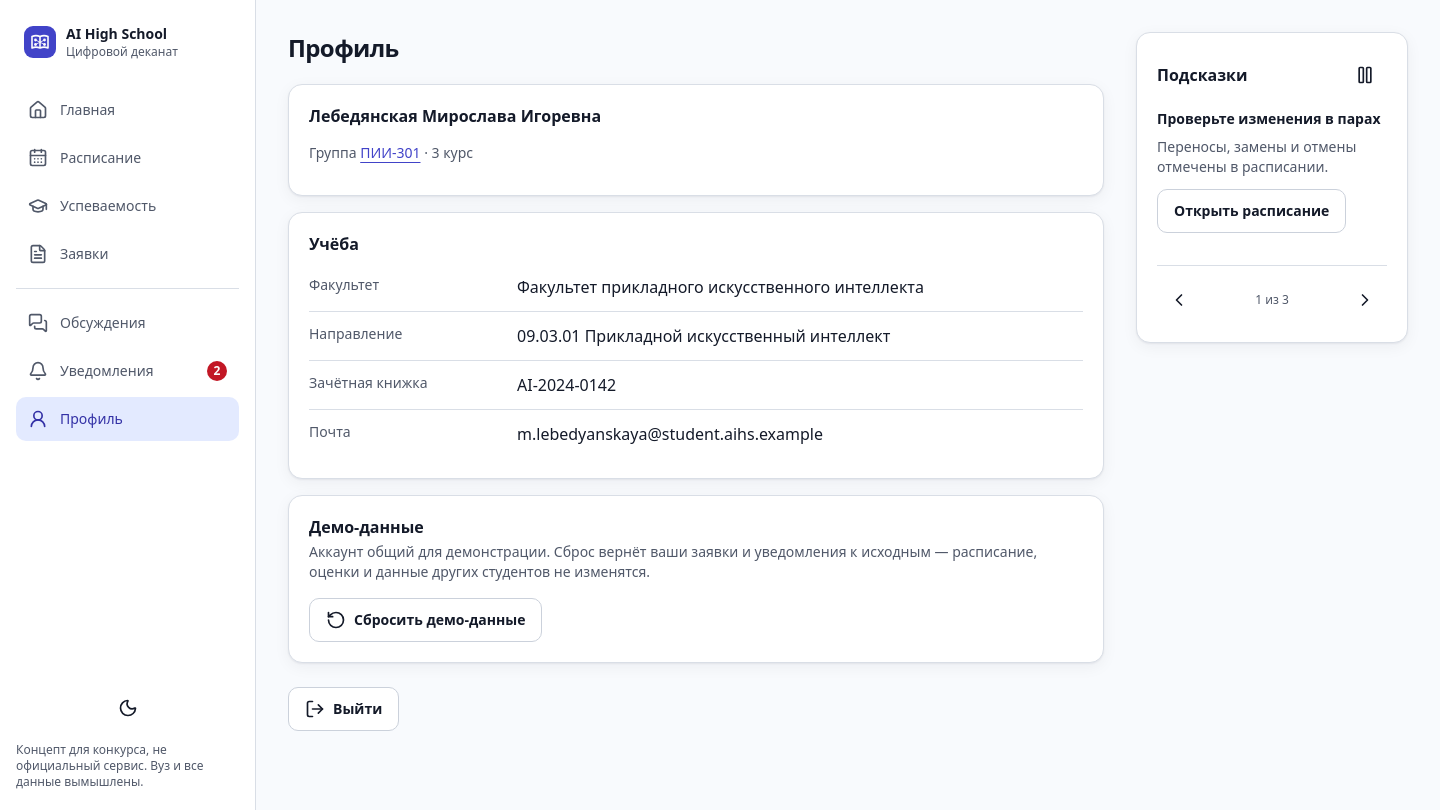
Scenario: профиль и выход › сброс демо-данных: подтверждение, затем «Готово»; созданная заявка исчезает
Click the button "Сбросить демо-данные". click: (426, 620)
box: [309,598,542,642]
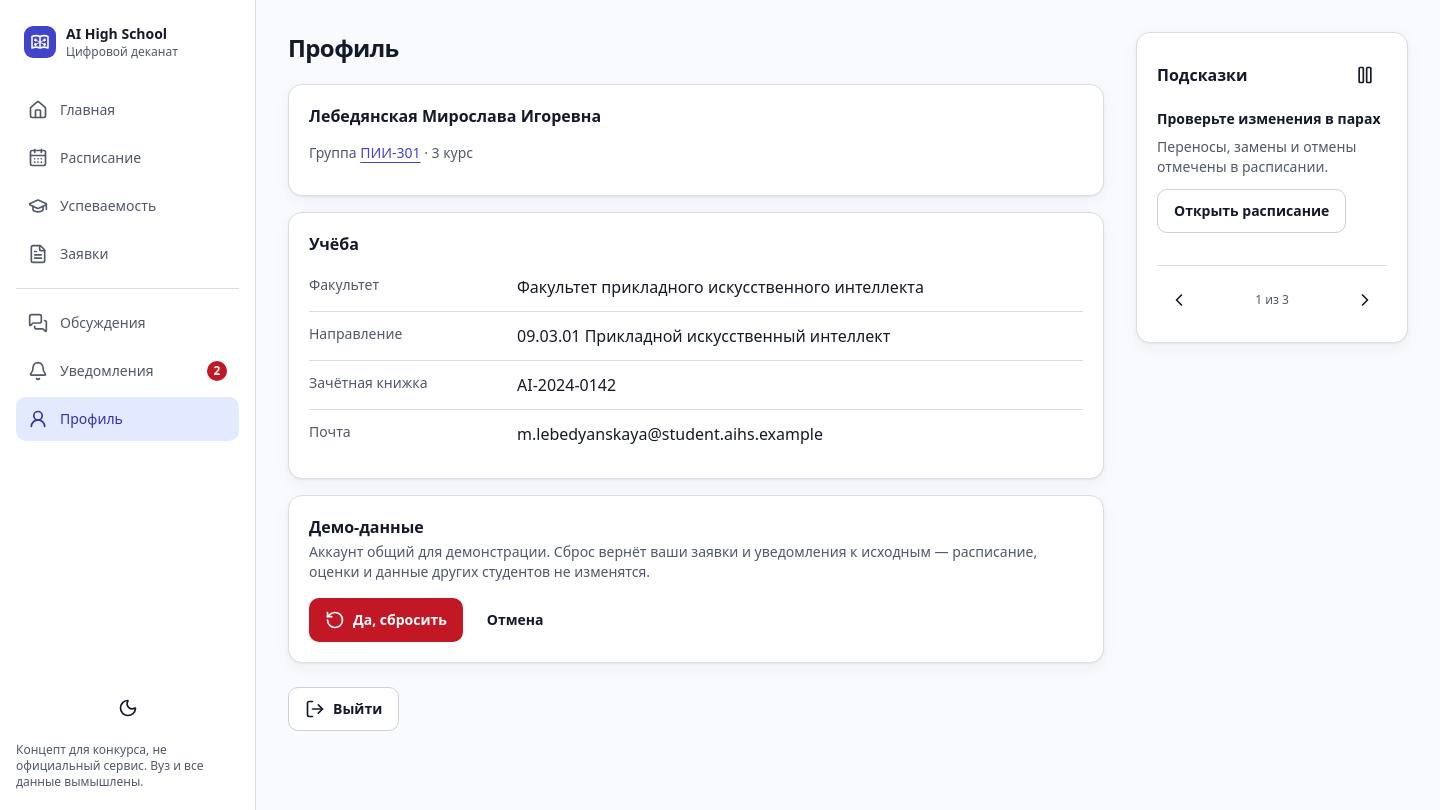
Click the button "Да, сбросить". click: (386, 620)
box: [309,598,463,642]
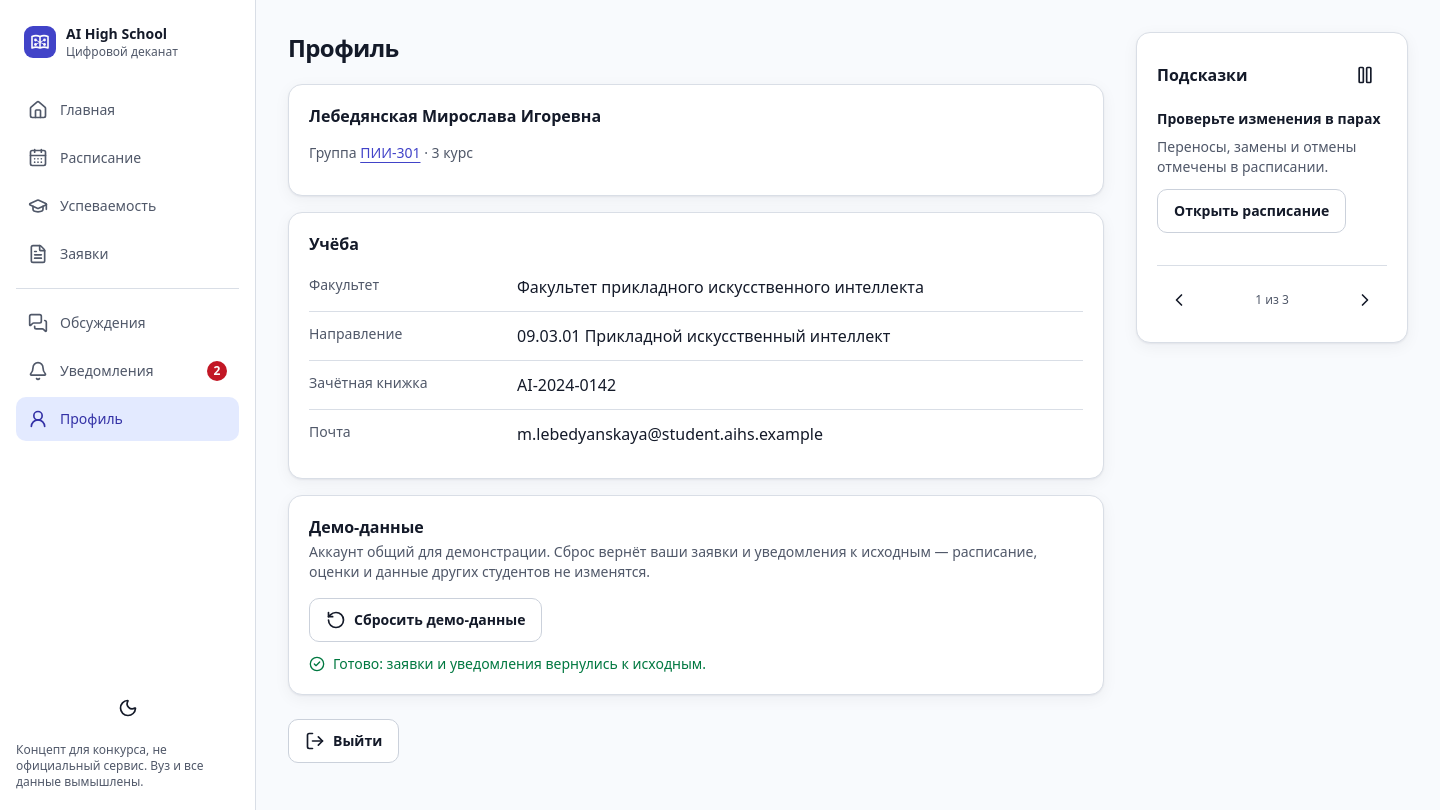
Check: the text "Готово: заявки и уведомления вернулись к исходным." is shown, box [309,654,706,673]
